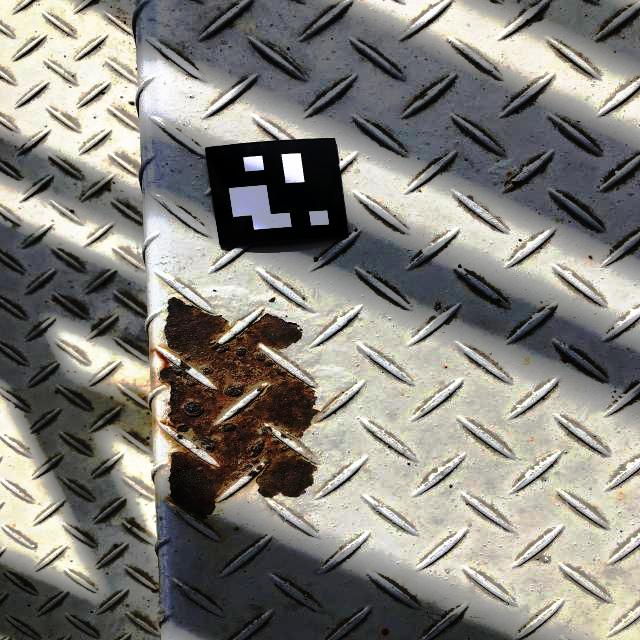Corrosion: (160, 294, 319, 520)
